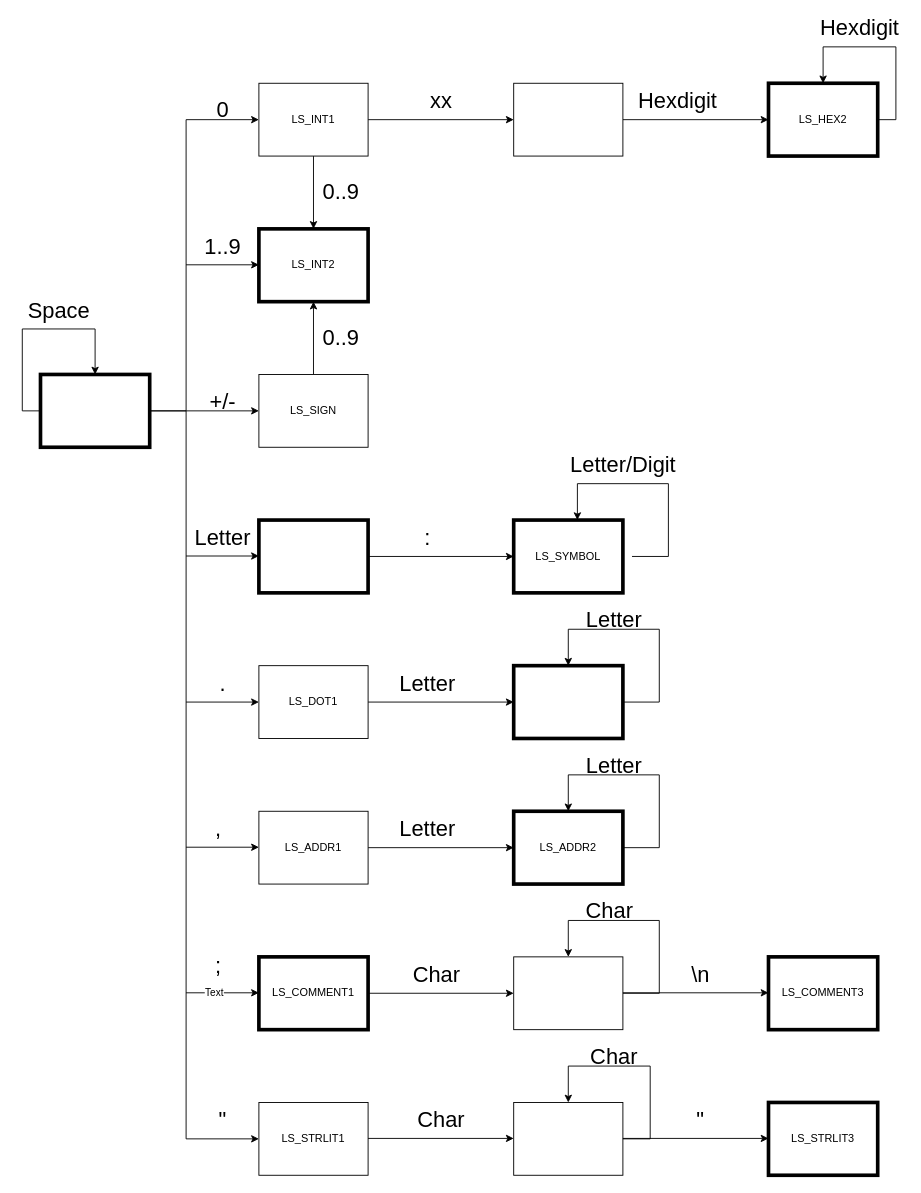
Image size: 921x1193. Some labels were removed from this diagram. Each missing label, with the centre of its shape:
"LS_COMMENT2" belongs at point 568,993.
"LS_DOT2" belongs at point 567,701.
"LS_HEX1" belongs at point 568,119.
"LS_IDENT" belongs at point 313,556.
"LS_START" belongs at point 94,410.
"LS_STRLIT2" belongs at point 568,1138.
